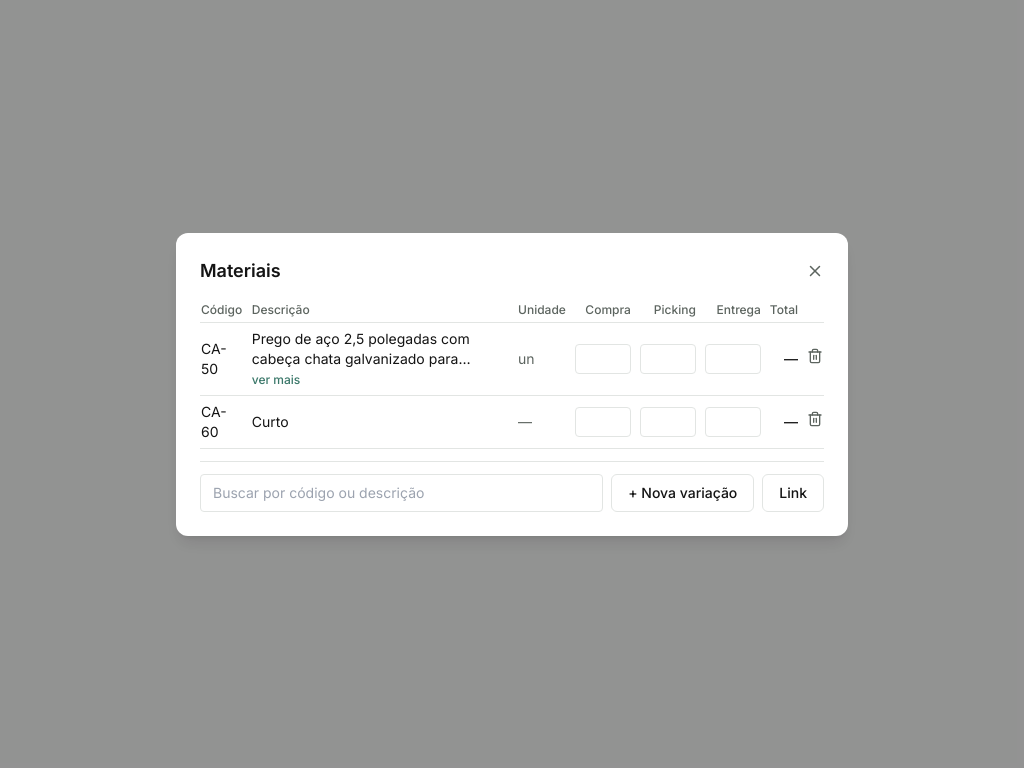
MaterialsPopup › mostra "ver mais" só para descrições longas e expande/recolhe a linha
Click the button with aria-label "Ver mais Aço — CA-50" at (276, 380), box [252,372,300,388]
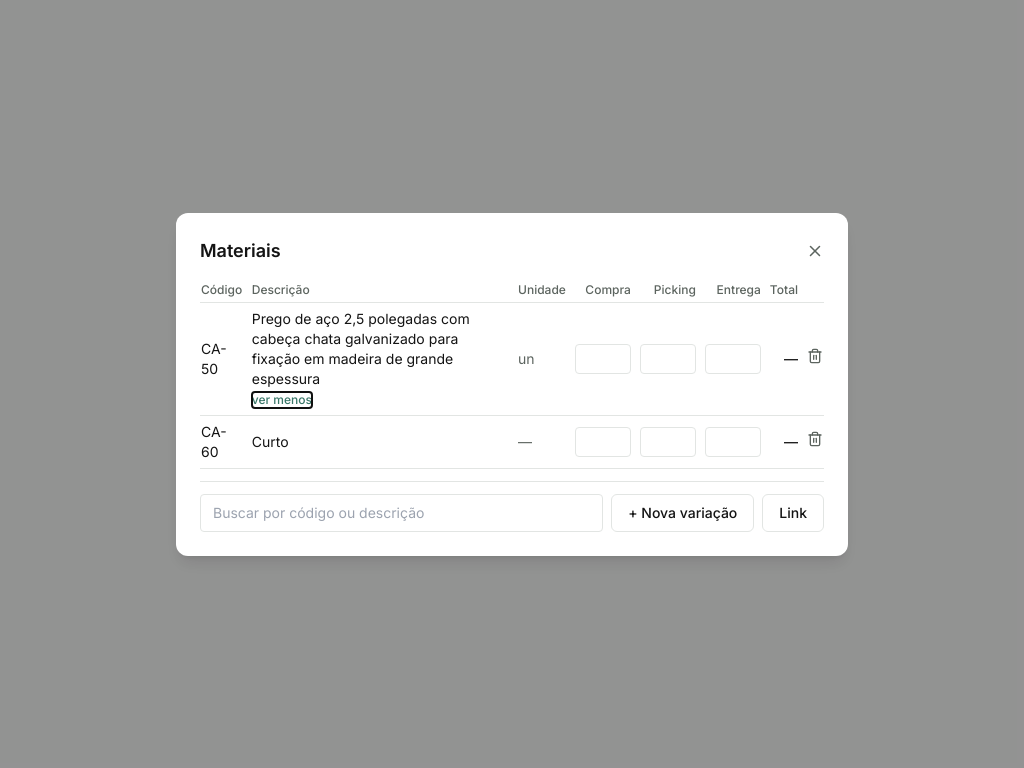
Expected: the button with aria-label "Ver menos Aço — CA-50" is expanded
Click the button with aria-label "Ver menos Aço — CA-50" at (282, 400), box [252,392,312,408]
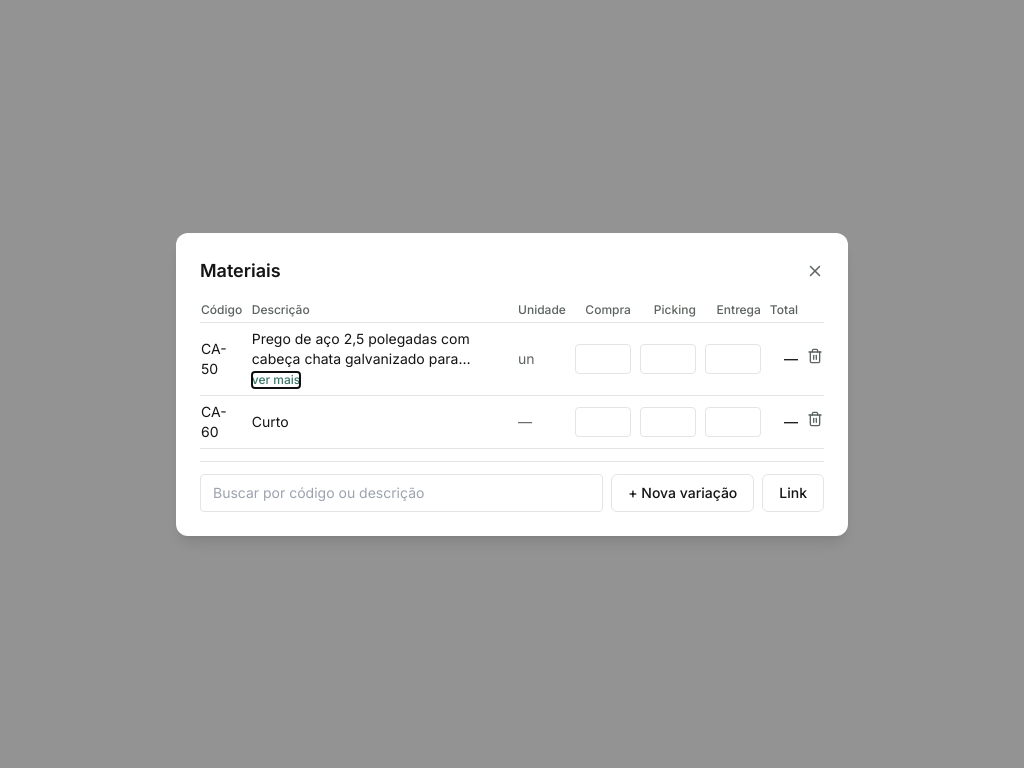
Expected: the button with aria-label "Ver mais Aço — CA-50" is collapsed, [252,372,300,388]
